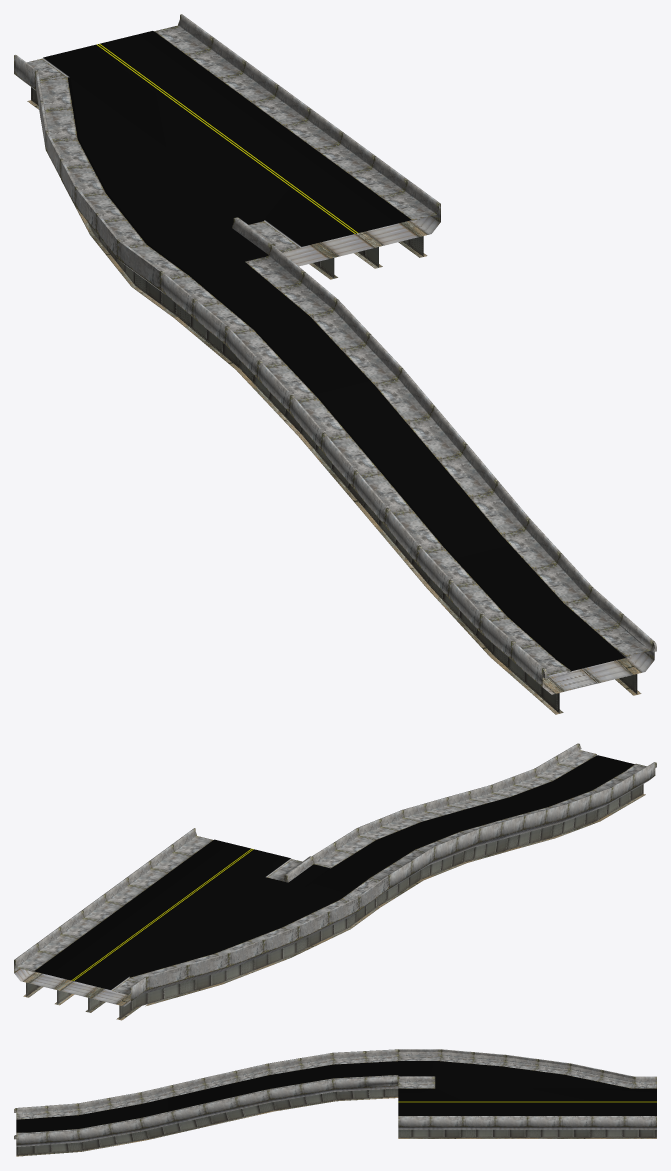
File: Bridge-OffRamp.fbx
The picture shows the model from 3 angles, top to bottom: view 1: azimuth 30°, elevation 25°; view 2: azimuth 150°, elevation 25°; view 3: azimuth 270°, elevation 25°; orthographic projection. The views are drawn at different scales.
Parts seen in each view (by area): view 1: Bridge-OffRamp; view 2: Bridge-OffRamp; view 3: Bridge-OffRamp.
Boxes of the visible parts, x1,y1,x2,y2 form: Bridge-OffRamp: [14, 14, 656, 714]; Bridge-OffRamp: [14, 743, 656, 1020]; Bridge-OffRamp: [14, 1049, 656, 1156].
Bounding box in the file's own units: 3500 × 1987 × 13915.
